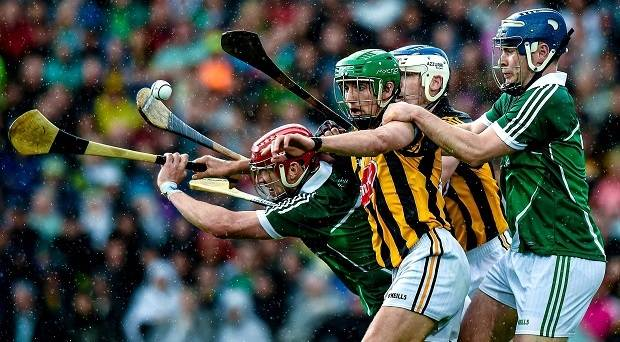hurley: (9, 109, 227, 178), (220, 27, 359, 129), (136, 84, 250, 160), (191, 175, 279, 207)
